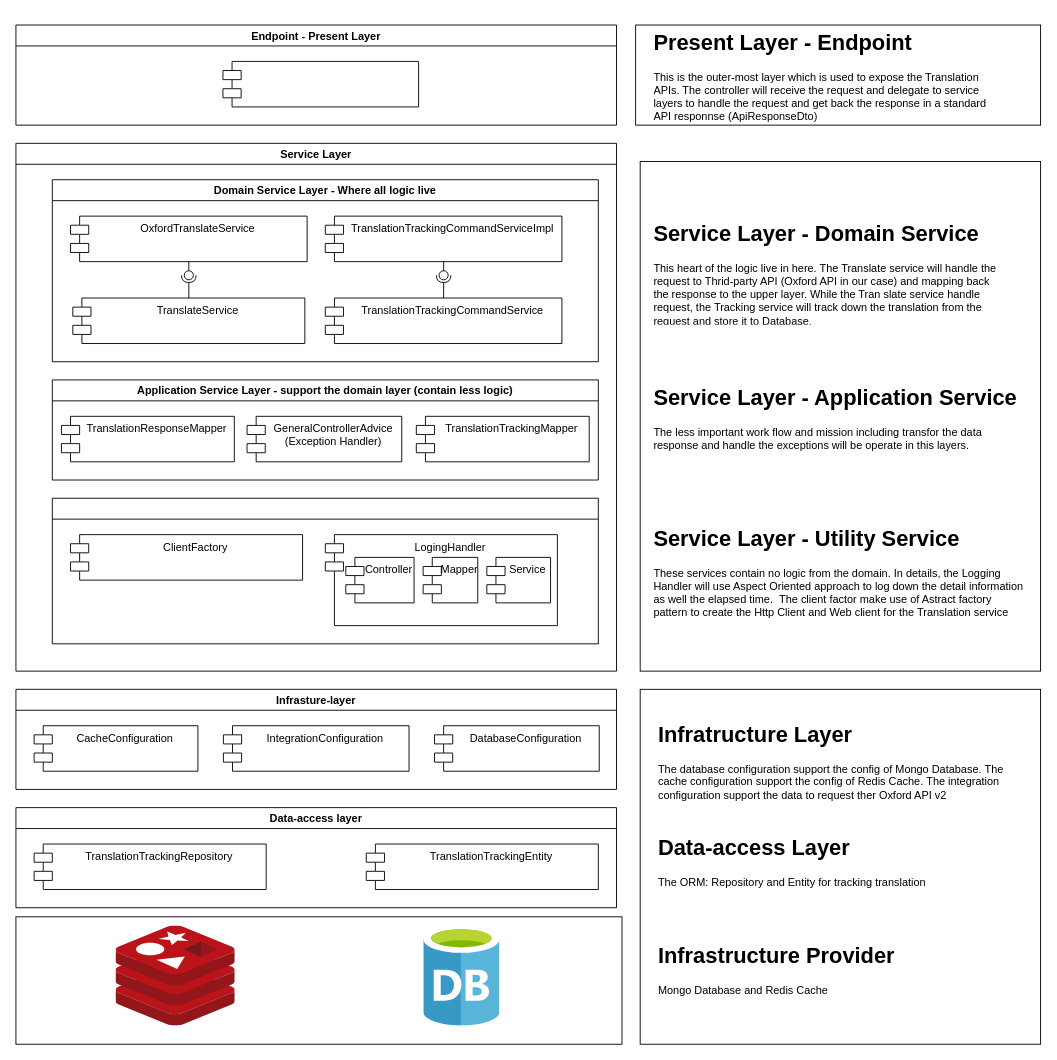
Image size: 1057x1060. Some labels were removed from this diagram. Each missing label, with the centre of its shape:
"TranslateController" belongs at (320,84).
"Utitlity Service Layer - the non-logic services for infrastruture" belongs at (324,570).
